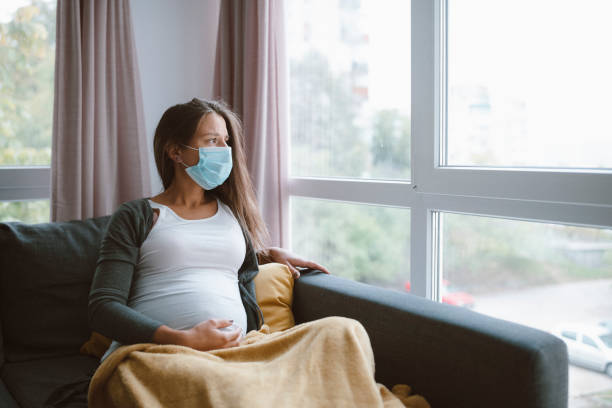with mask: (150, 100, 242, 193)
